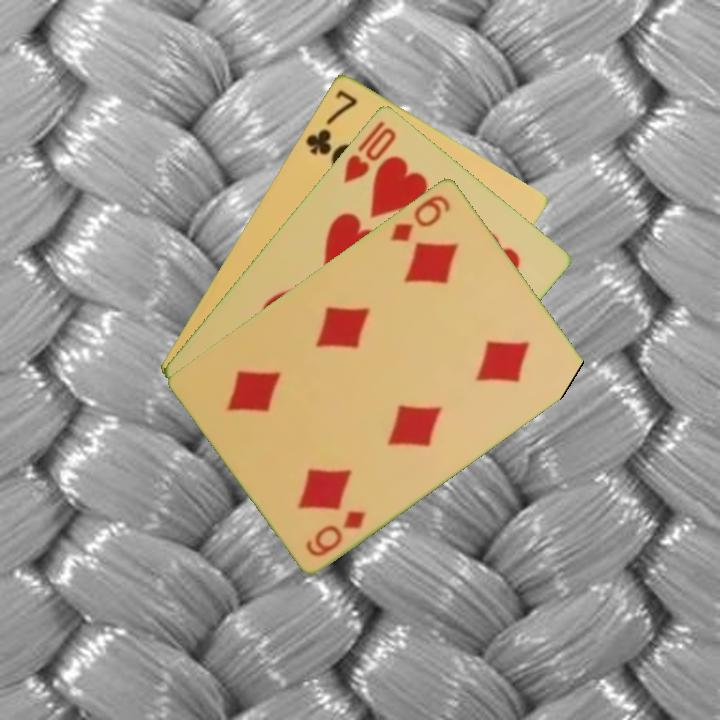10h: (339, 123, 400, 186)
6d: (387, 190, 454, 245), (301, 506, 369, 559)
7c: (302, 85, 360, 158)
